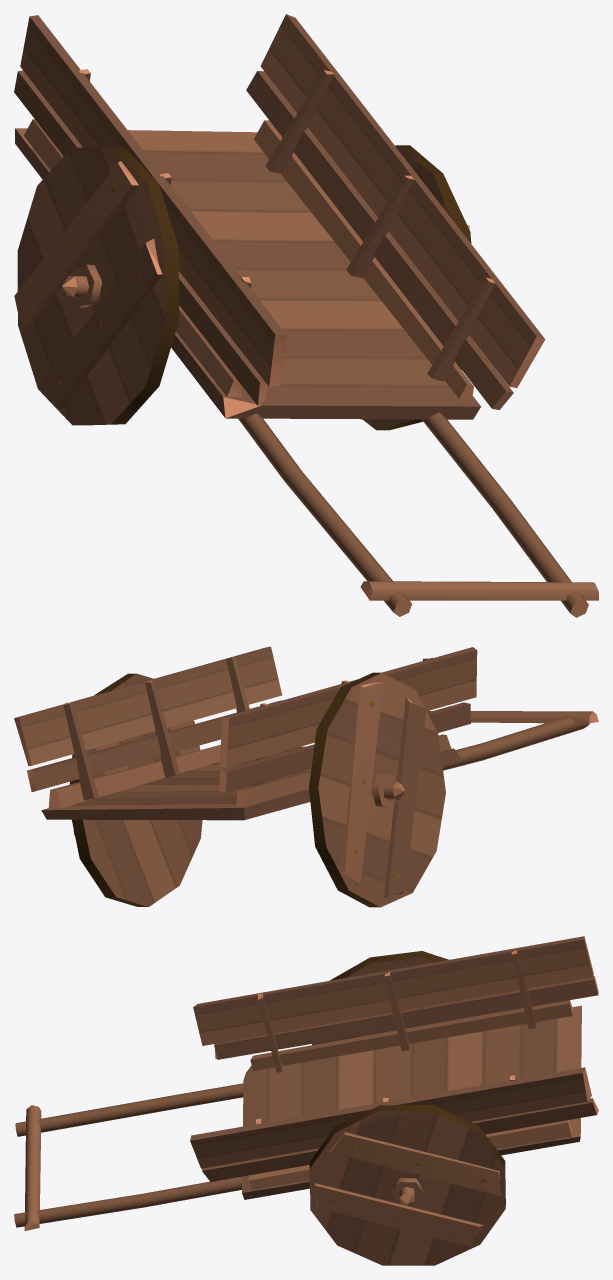
Rendered from Cart 1.fbx.
The picture shows the model from 3 angles, top to bottom: view 1: azimuth 30°, elevation 25°; view 2: azimuth 150°, elevation 25°; view 3: azimuth 270°, elevation 25°; orthographic projection. The views are drawn at different scales.
Visible parts, largest first — view 1: Cart; view 2: Cart; view 3: Cart.
Part boxes in pixels (bbox=[...]): Cart: bbox=[14, 14, 598, 617]; Cart: bbox=[14, 646, 598, 907]; Cart: bbox=[14, 936, 598, 1265].
Bounding box in the file's own units: 168 × 158 × 328.
